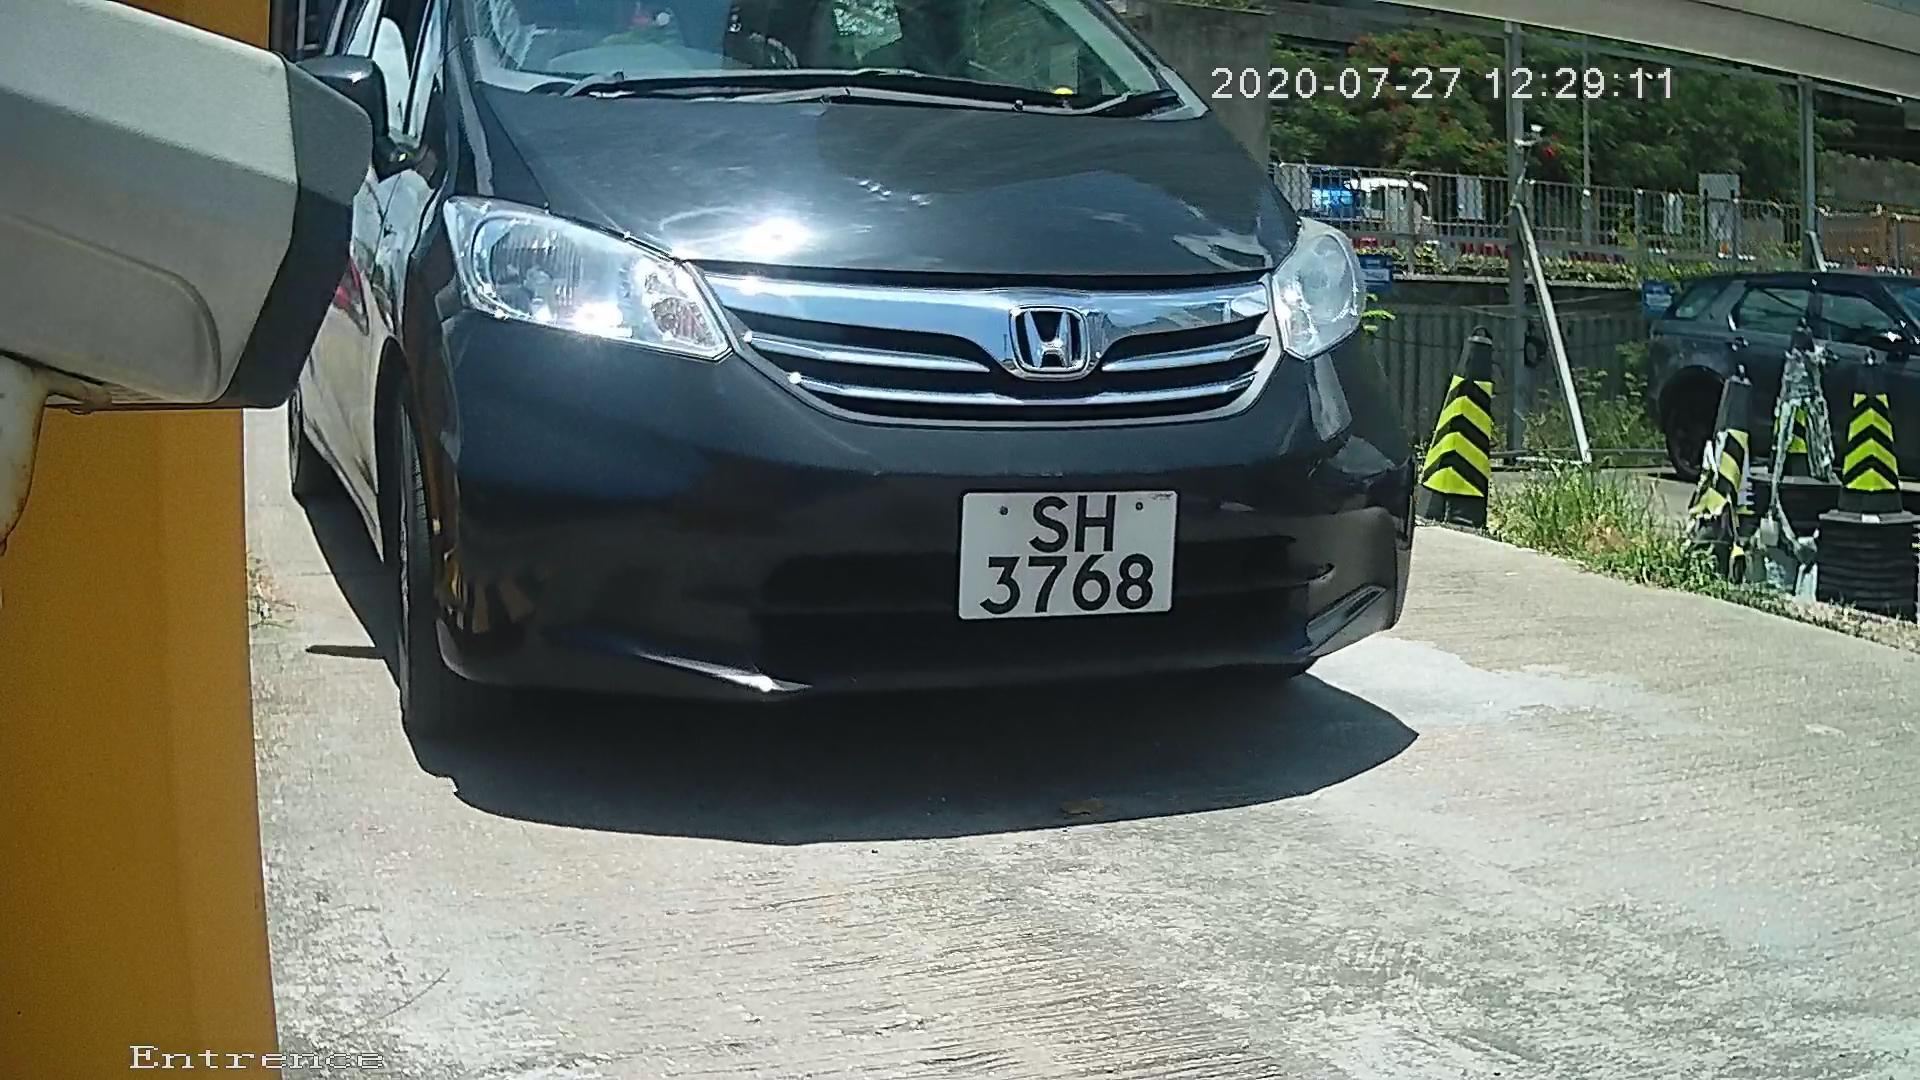Car: (146, 15, 1449, 825)
License Plate: (943, 468, 1192, 637)
